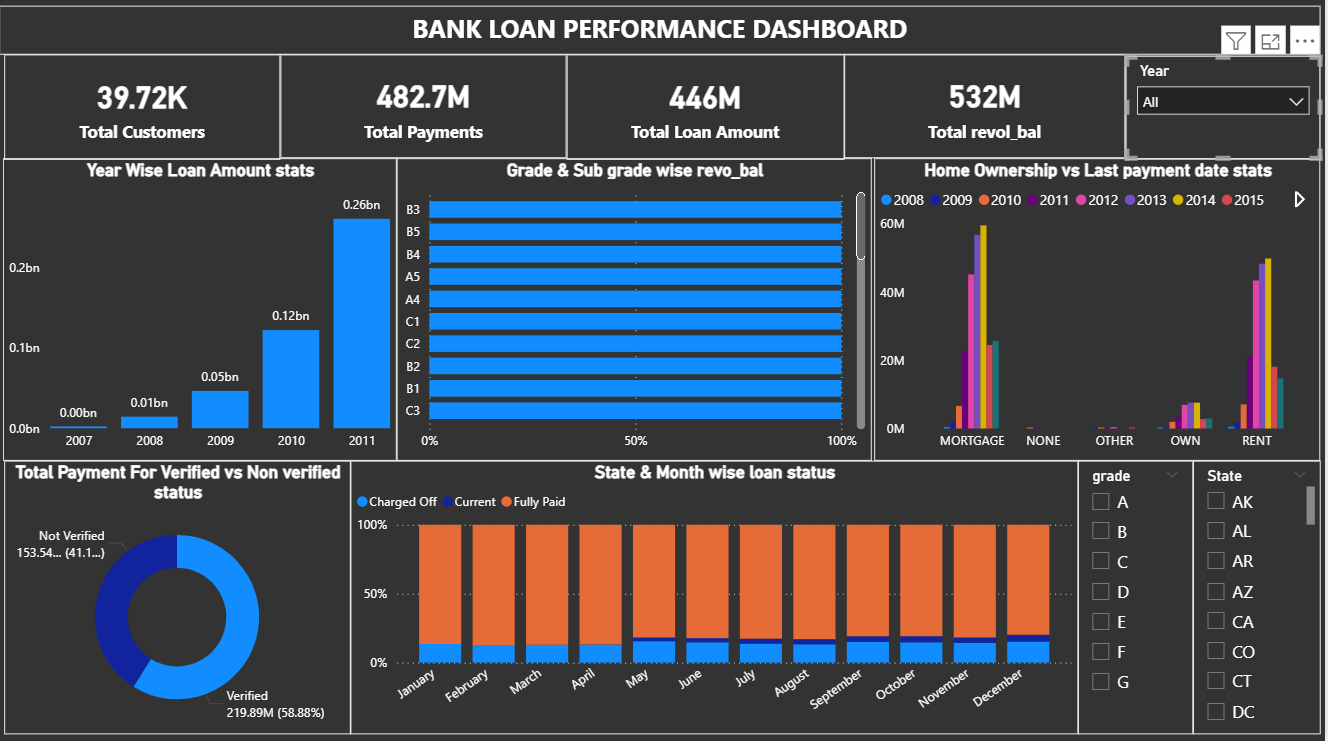

This screenshot's page, from the dashboard's own definition file:
{"tool":"tableau","page":{"name":"Dashboard 1","canvas":[1000,1000],"units":"permille","ordinal":0},"visuals":[{"type":"title","box":[4.8,10,990.3,82.4]},{"type":"worksheet","title":"year wise loan ","mark":"Automatic","box":[4.8,92.4,169.8,160.2]},{"type":"worksheet","title":"revolving_balace","mark":"Automatic","box":[174.6,92.4,193.3,160.2]},{"type":"worksheet","title":"verified vs non-verified","mark":"Automatic","box":[368,92.4,179.8,160.2]},{"type":"worksheet","title":"state & month wise trend","mark":"Automatic","box":[547.8,92.4,183.5,160.2]},{"type":"worksheet","title":"home ownership kpi","mark":"Automatic","box":[731.3,92.4,178.2,160.2]},{"type":"filter","title":"Sheet 7","param":"[federated.1mu3b8m0d0jlrc12s22qq00wwjo0].[none:Year:ok]","box":[909.5,92.4,85.7,219.7]},{"type":"worksheet","title":"Sheet 7","mark":"Line","rows":["loan_amnt"],"cols":["Year"],"box":[4.8,252.5,344.4,368.7]},{"type":"worksheet","title":"Sheet 8 (2)","mark":"Automatic","rows":["Calculation_1187252375818261","Calculation_1187252373209096"],"box":[349.3,252.5,273.9,368.7]},{"type":"worksheet","title":"Sheet 5","mark":"Automatic","rows":["last_pymnt_d"],"cols":["home_ownership"],"box":[623.1,252.5,286.3,368.7]},{"type":"filter","title":"Sheet 10","param":"[federated.1mu3b8m0d0jlrc12s22qq00wwjo0].[none:grade:nk]","box":[909.5,312.1,85.7,228.5]},{"type":"filter","title":"Sheet 9","param":"[federated.1mu3b8m0d0jlrc12s22qq00wwjo0].[none:loan_status:nk]","box":[909.5,540.6,85.7,183.5]},{"type":"worksheet","title":"Sheet 9","mark":"Automatic","rows":["Calculation_1187252359692294"],"cols":["Month","loan_status"],"box":[4.8,621.2,344.4,368.8]},{"type":"worksheet","title":"Sheet 12","mark":"Automatic","rows":["Calculation_1187252373209096","Calculation_1187252373209096"],"box":[349.3,621.2,225.8,368.8]},{"type":"worksheet","title":"Sheet 10","mark":"Automatic","rows":["revol_bal"],"cols":["grade","sub_grade"],"box":[575,621.2,334.5,368.8]},{"type":"filter","title":"Sheet 9","param":"[federated.1mu3b8m0d0jlrc12s22qq00wwjo0].[none:addr_state:nk]","box":[909.5,724.1,85.7,265.9]}]}

Visuals, with their boxes on the dashboard's canvas, which has no fixed pixel size, in thousandths of its width and height (x1, y1, x2, y2). These are canvas units, not pixel positions in the 1328x741 screenshot, which may show the page scaled, cropped or inside an application window:
title: left=5, top=10, right=995, bottom=92
"year wise loan " worksheet: left=5, top=92, right=175, bottom=253
"revolving_balace" worksheet: left=175, top=92, right=368, bottom=253
"verified vs non-verified" worksheet: left=368, top=92, right=548, bottom=253
"state & month wise trend" worksheet: left=548, top=92, right=731, bottom=253
"home ownership kpi" worksheet: left=731, top=92, right=910, bottom=253
"Sheet 7" filter: left=910, top=92, right=995, bottom=312
"Sheet 7" worksheet (Line marks): left=5, top=252, right=349, bottom=621
"Sheet 8 (2)" worksheet: left=349, top=252, right=623, bottom=621
"Sheet 5" worksheet: left=623, top=252, right=909, bottom=621
"Sheet 10" filter: left=910, top=312, right=995, bottom=541
"Sheet 9" filter: left=910, top=541, right=995, bottom=724
"Sheet 9" worksheet: left=5, top=621, right=349, bottom=990
"Sheet 12" worksheet: left=349, top=621, right=575, bottom=990
"Sheet 10" worksheet: left=575, top=621, right=910, bottom=990
"Sheet 9" filter: left=910, top=724, right=995, bottom=990
